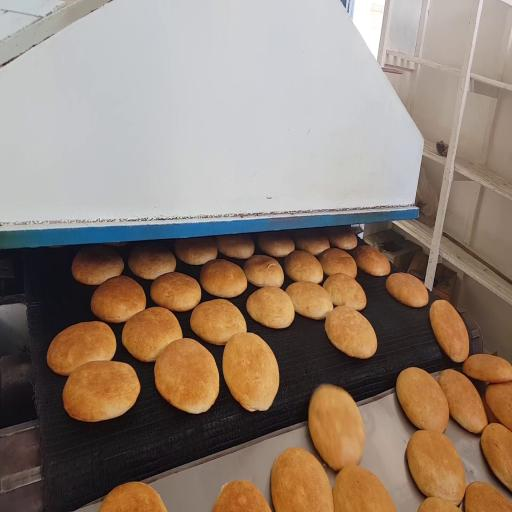bread: (308, 384, 365, 470), (155, 339, 219, 413), (63, 361, 140, 421), (223, 333, 279, 411), (407, 430, 465, 505), (271, 448, 333, 511), (47, 321, 116, 375), (396, 367, 449, 432), (122, 307, 182, 362), (438, 370, 487, 433), (333, 465, 396, 511), (325, 306, 377, 358), (91, 276, 146, 323), (190, 299, 246, 345), (430, 300, 469, 362), (72, 246, 124, 285), (481, 423, 511, 490), (151, 272, 201, 311), (247, 287, 294, 328), (99, 483, 166, 511), (200, 259, 247, 297), (286, 282, 333, 319), (128, 244, 176, 280), (213, 481, 270, 511), (323, 274, 366, 310), (386, 273, 428, 307), (463, 354, 511, 383), (465, 482, 511, 511), (174, 236, 218, 266), (243, 255, 283, 287), (284, 251, 323, 283), (486, 382, 511, 429), (319, 248, 357, 277), (354, 246, 390, 276), (258, 232, 294, 257), (217, 235, 254, 259), (294, 230, 329, 255), (327, 226, 357, 249), (418, 497, 459, 511), (481, 393, 499, 423)
